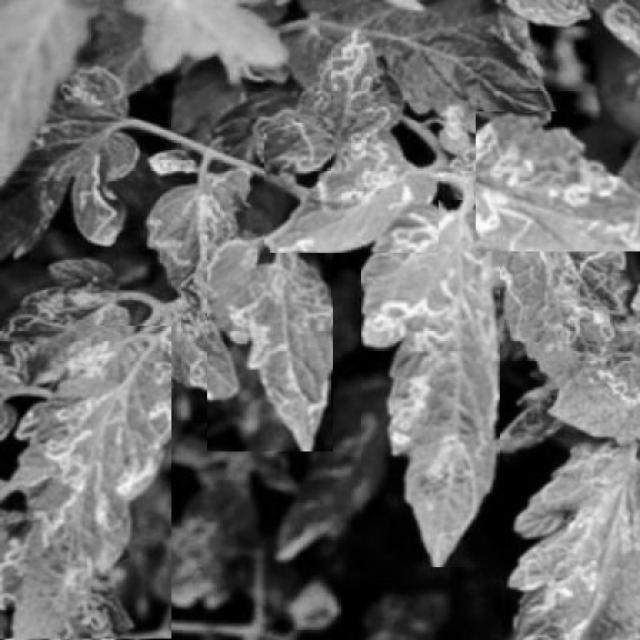Leaf Miner: (0, 325, 171, 638), (360, 200, 500, 567), (501, 435, 639, 640), (207, 237, 333, 452), (475, 111, 640, 251), (265, 127, 439, 253)
